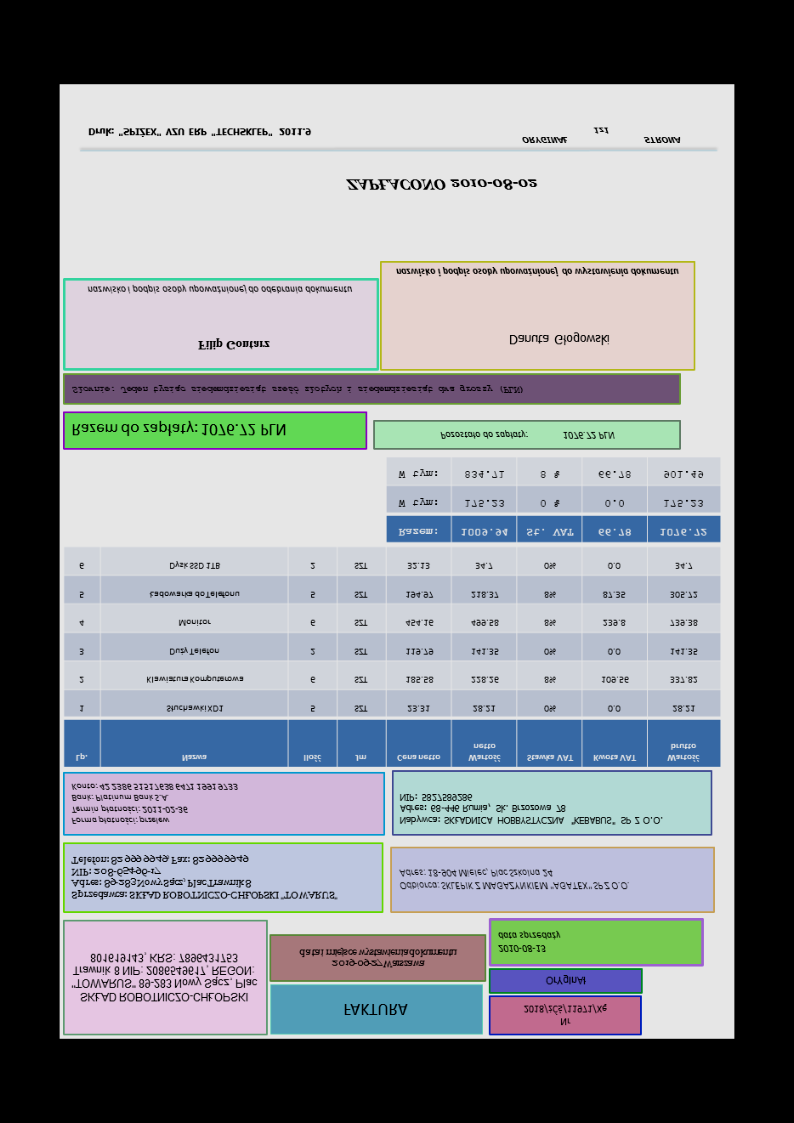Table: (62, 546, 720, 768), (385, 457, 723, 543)
TextBox: (68, 853, 339, 903), (69, 951, 259, 1004), (397, 791, 666, 827), (69, 780, 240, 827), (397, 866, 632, 892), (70, 383, 524, 396), (71, 420, 287, 440), (394, 266, 680, 280), (297, 946, 461, 970), (342, 175, 540, 193), (85, 283, 354, 296), (520, 125, 683, 145), (87, 125, 314, 139), (439, 428, 617, 442), (521, 1001, 610, 1027), (496, 929, 563, 955), (508, 330, 610, 347), (341, 1000, 409, 1018), (196, 338, 271, 353), (543, 973, 587, 989)
